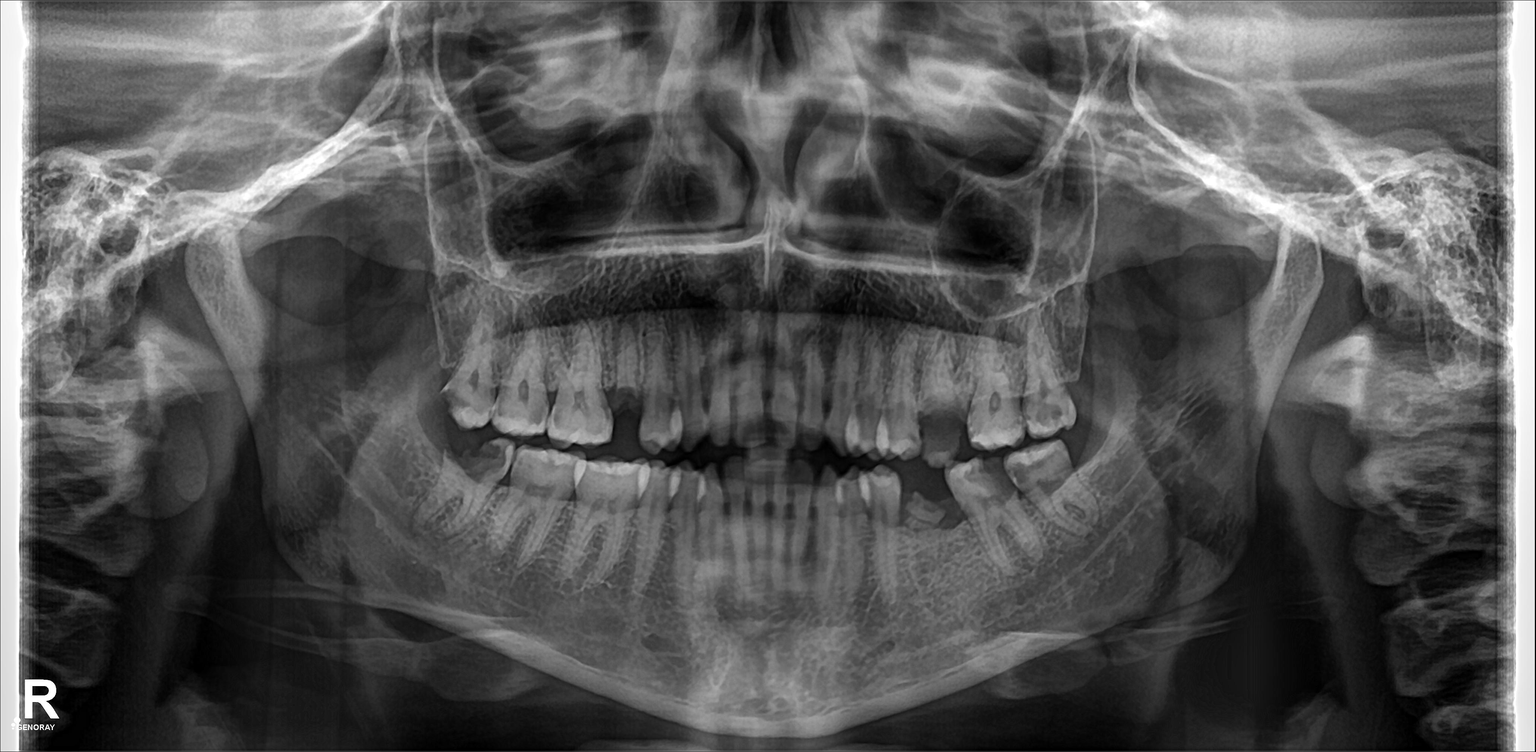Dental Caries: (916, 393, 959, 454)
Impacted Third Molar: (1006, 454, 1086, 523), (438, 437, 515, 496)
Retained Root: (598, 337, 650, 447), (901, 471, 952, 550)
